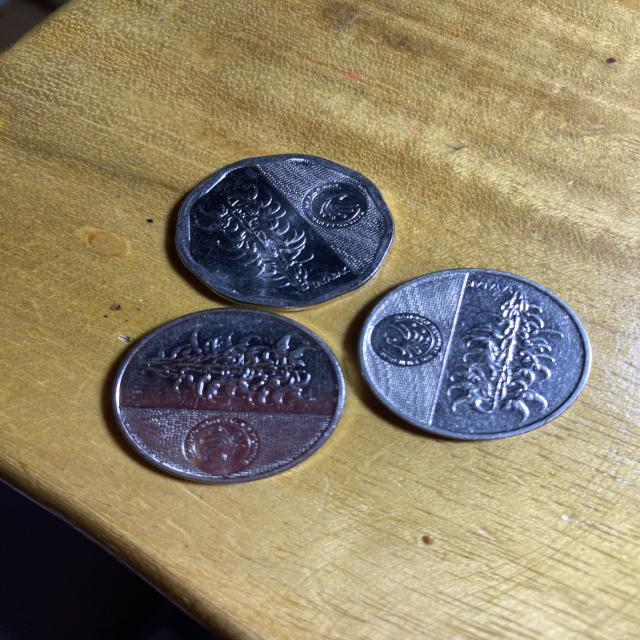5_New_Back: (194, 180, 332, 300)
